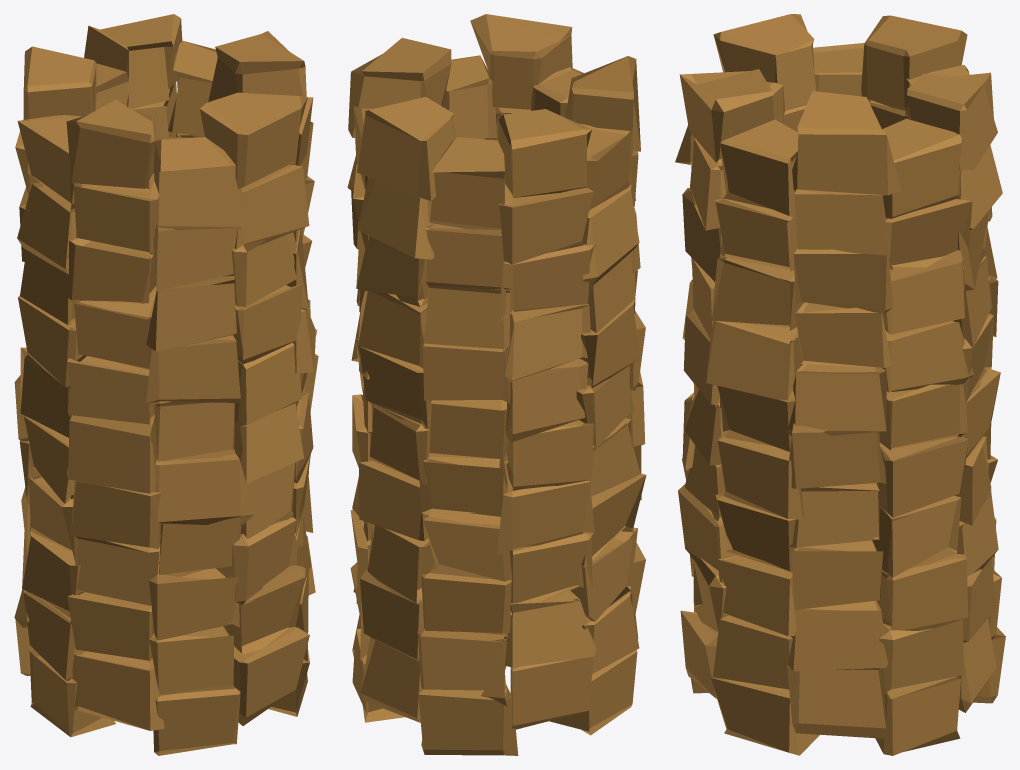
File: egypt_pillar.fbx
The picture shows the model from 3 angles, left to right: view 1: azimuth 30°, elevation 25°; view 2: azimuth 150°, elevation 25°; view 3: azimuth 270°, elevation 25°; orthographic projection. The views are drawn at different scales.
Parts seen in each view (by area): view 1: Cube; view 2: Cube; view 3: Cube.
Boxes of the visible parts, x1,y1,x2,y2 form: Cube: (14,14,318,755); Cube: (347,14,646,755); Cube: (675,14,1005,755).
Size of the model in its own units: 1458 by 3444 by 1607.
